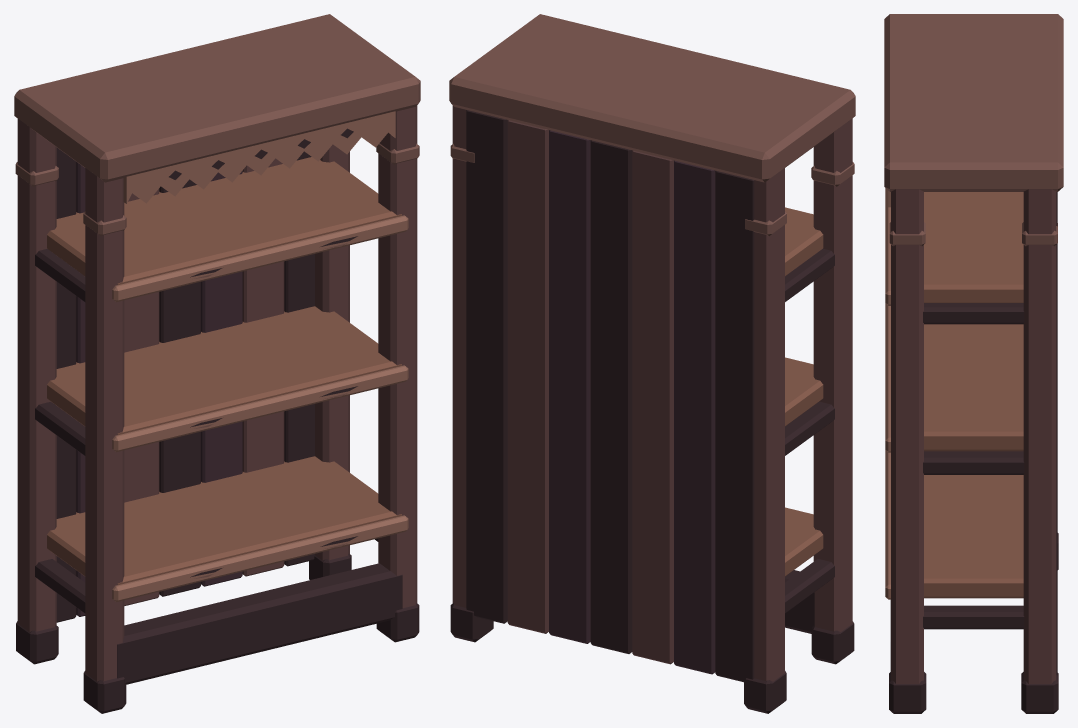
Rendered from shelf.glb.
The picture shows the model from 3 angles, left to right: view 1: azimuth 30°, elevation 25°; view 2: azimuth 150°, elevation 25°; view 3: azimuth 270°, elevation 25°; orthographic projection. The views are drawn at different scales.
Visible parts, largest first — view 1: shelf; view 2: shelf; view 3: shelf.
Part boxes in pixels (x1,y1,x2,y2): shelf: [14, 14, 420, 713]; shelf: [449, 14, 855, 713]; shelf: [884, 14, 1063, 713].
Size of the model in its own units: 0.898 by 1.5 by 0.443.
